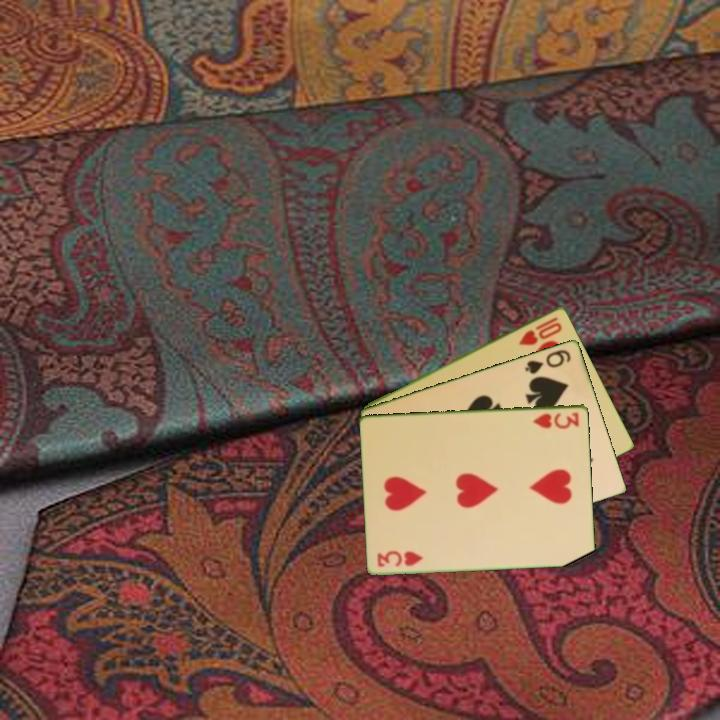10h: (515, 313, 565, 348)
3h: (530, 409, 582, 431), (374, 547, 426, 569)
6s: (522, 346, 574, 377)
